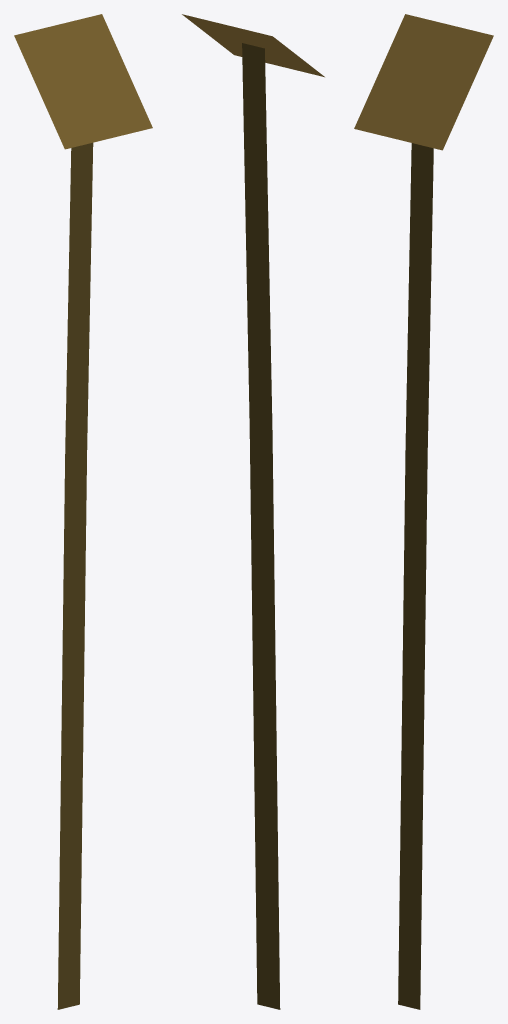
File: Accent_SeedHead.glb
The picture shows the model from 3 angles, left to right: view 1: azimuth 30°, elevation 25°; view 2: azimuth 150°, elevation 25°; view 3: azimuth 330°, elevation 25°; orthographic projection. The views are drawn at different scales.
Parts seen in each view (by area): view 1: Accent_SeedHead; view 2: Accent_SeedHead; view 3: Accent_SeedHead.
Boxes of the visible parts, box(x1,y1,x2,y2) form: Accent_SeedHead: box(14, 14, 152, 1009); Accent_SeedHead: box(182, 14, 324, 1009); Accent_SeedHead: box(354, 14, 493, 1009).
Bounding box in the file's own units: 0.012 × 0.125 × 0.012.
